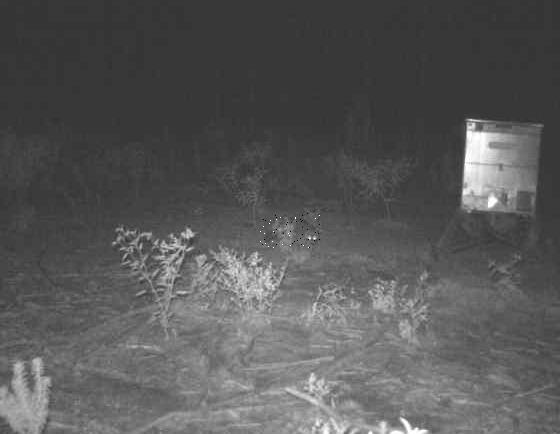Raccoon: (259, 212, 320, 248)
